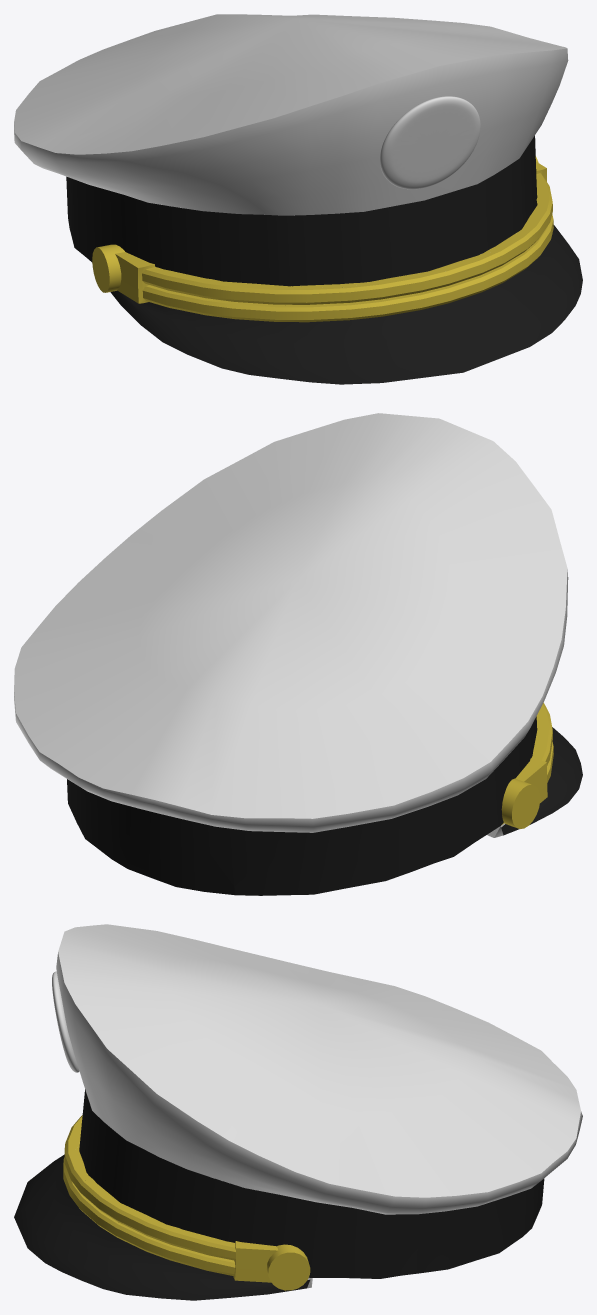
The model's file is captain.glb.
3 renders of one model, top to bottom at view 1: azimuth 30°, elevation 25°; view 2: azimuth 150°, elevation 25°; view 3: azimuth 270°, elevation 25°, orthographic. The views are drawn at different scales.
Parts seen in each view (by area): view 1: defaultMaterial_Material.003_0, defaultMaterial_Material.016_0, defaultMaterial_Material.021_0; view 2: defaultMaterial_Material.003_0, defaultMaterial_Material.016_0, defaultMaterial_Material.021_0; view 3: defaultMaterial_Material.003_0, defaultMaterial_Material.016_0, defaultMaterial_Material.021_0.
Boxes of the visible parts, x1,y1,x2,y2 form: defaultMaterial_Material.003_0: [14, 14, 568, 215]; defaultMaterial_Material.016_0: [66, 136, 582, 384]; defaultMaterial_Material.021_0: [92, 156, 553, 322]; defaultMaterial_Material.003_0: [14, 413, 568, 895]; defaultMaterial_Material.016_0: [67, 716, 582, 895]; defaultMaterial_Material.021_0: [501, 702, 553, 828]; defaultMaterial_Material.003_0: [52, 924, 582, 1288]; defaultMaterial_Material.016_0: [14, 1089, 544, 1300]; defaultMaterial_Material.021_0: [63, 1115, 310, 1290].
Bounding box in the file's own units: 1.84 × 1.07 × 2.08.
